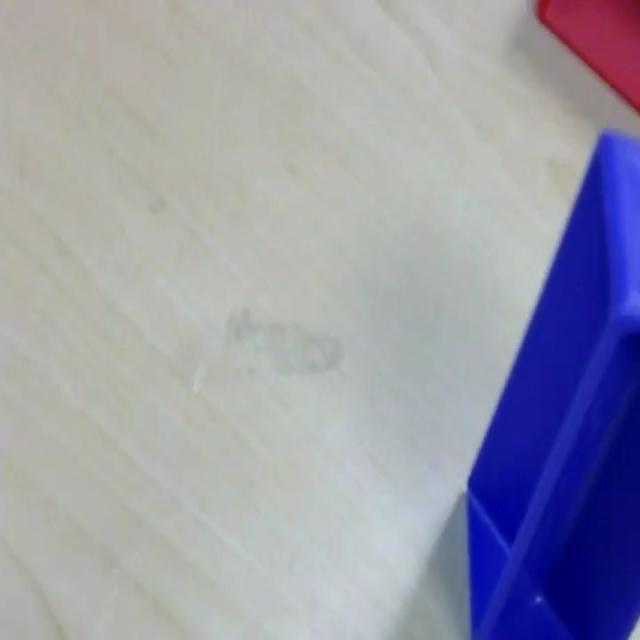blue_block: (465, 125, 639, 636)
